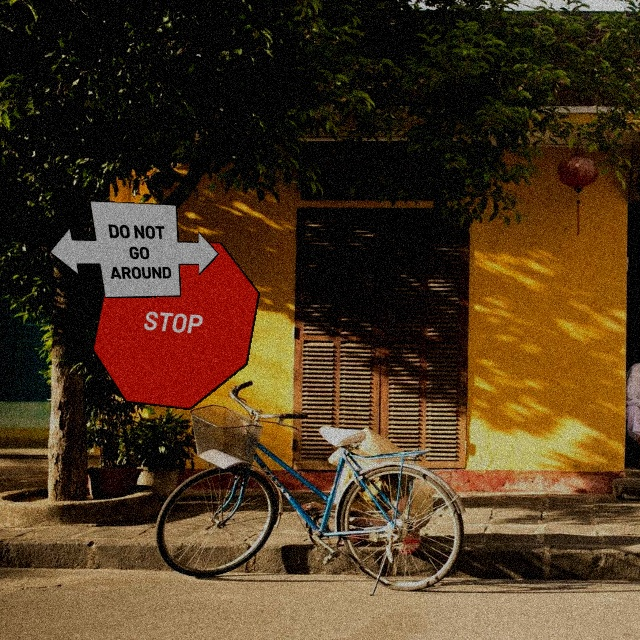DO_NOT_GO_AROUND: (49, 200, 219, 298)
STOP: (92, 240, 260, 410)
